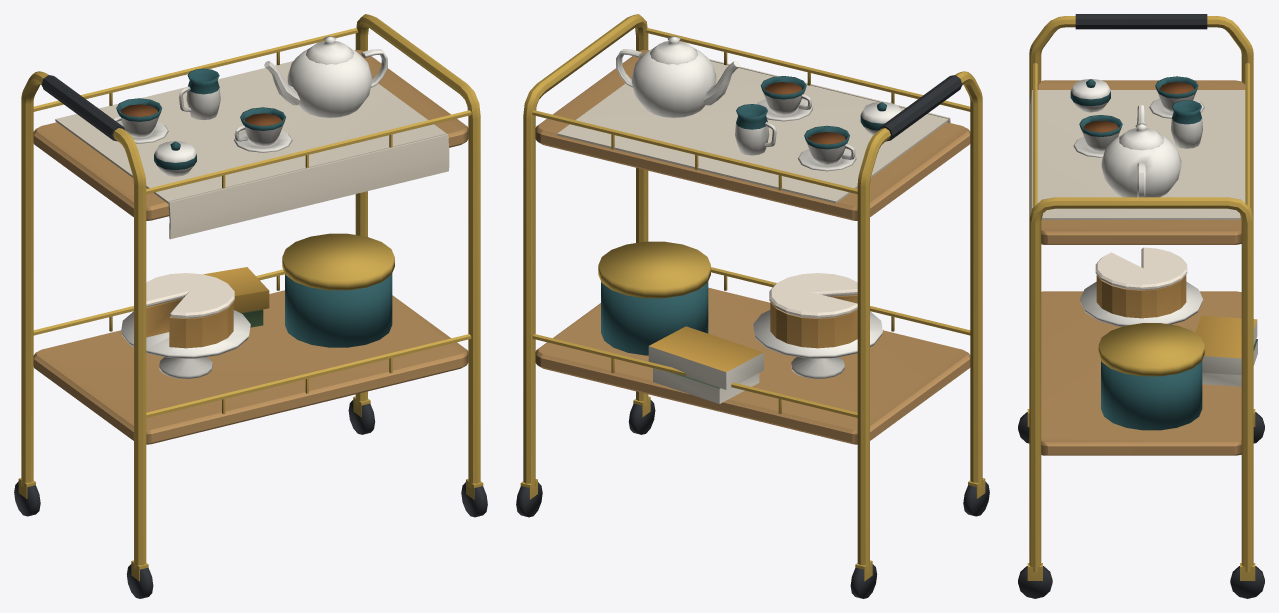
Rendered from teaTrolley.glb.
The picture shows the model from 3 angles, left to right: view 1: azimuth 30°, elevation 25°; view 2: azimuth 150°, elevation 25°; view 3: azimuth 270°, elevation 25°; orthographic projection. The views are drawn at different scales.
Parts seen in each view (by area): view 1: body, teapot; view 2: body, teapot; view 3: body, teapot.
Boxes of the visible parts, box(x1,y1,x2,y2) form: body: box(14, 14, 487, 598); teapot: box(264, 36, 387, 118); body: box(516, 14, 989, 598); teapot: box(616, 36, 739, 118); body: box(1018, 14, 1264, 598); teapot: box(1101, 105, 1181, 197).
Size of the model in its own units: 0.748 by 0.943 by 0.488.
